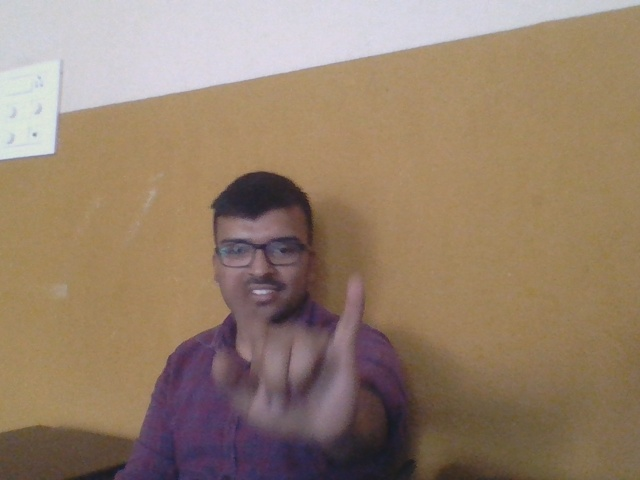I Love You: (205, 266, 376, 445)
